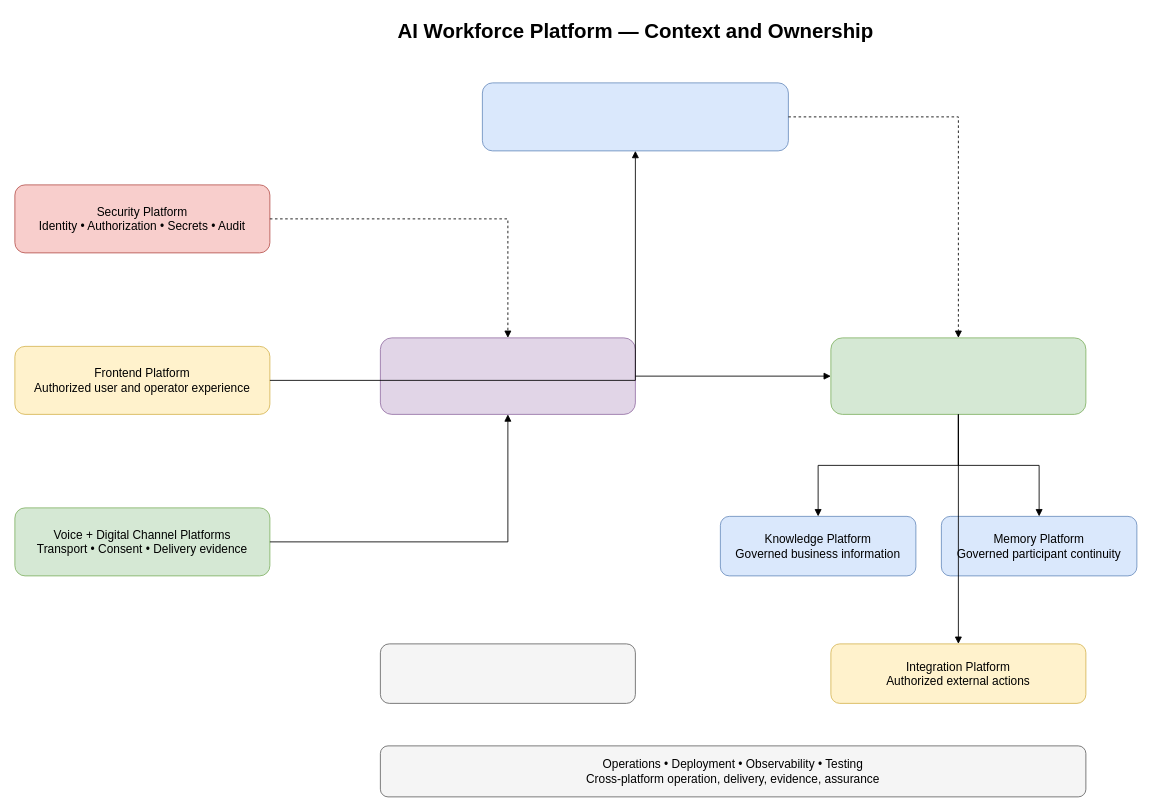
Image size: 1152x812. Some labels were removed from this diagram. Here are the shapes that lost their labels. From the top down, the centre of each, then its label:
pixel 635 116: Platform Foundation Tenant • Membership • Configuration • API Edge
pixel 507 375: Conversation Platform Canonical conversation • Routing • Handoff
pixel 958 375: Agent Platform One Brain • Behavior • Reasoning • Tool intent
pixel 507 673: Data Platform Persistence • Lifecycle • Recovery
